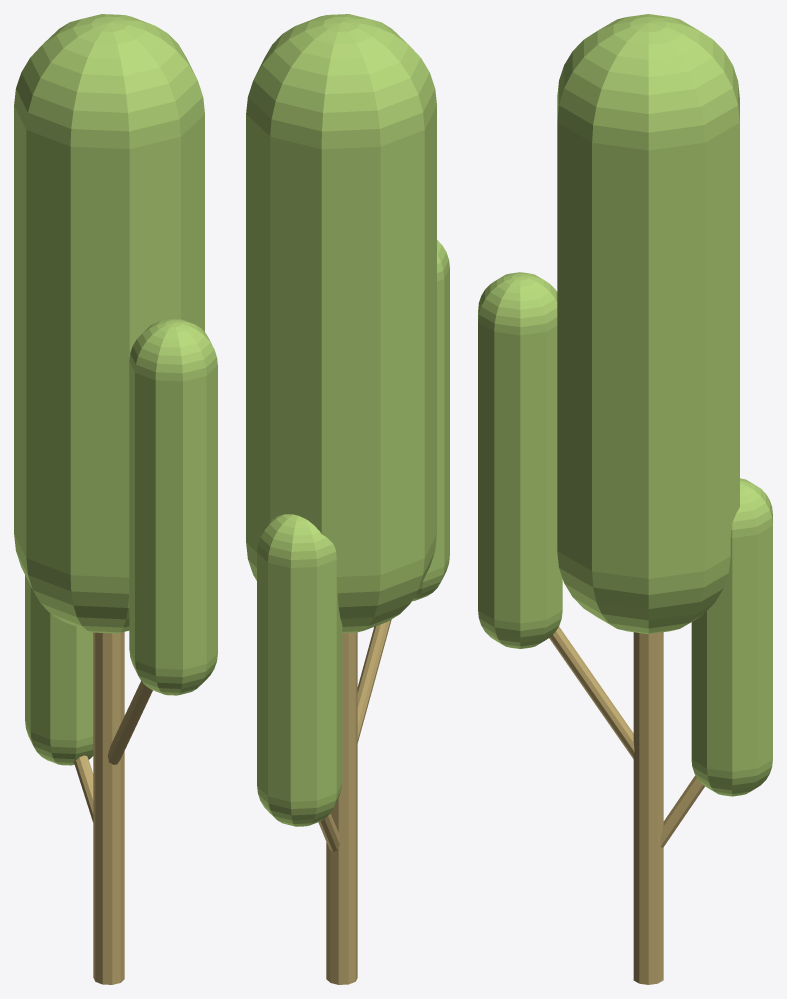
Rendered from props12.fbx.
3 renders of one model, left to right at view 1: azimuth 30°, elevation 25°; view 2: azimuth 150°, elevation 25°; view 3: azimuth 270°, elevation 25°, orthographic.
Parts seen in each view (by area): view 1: Capsule_3; view 2: Capsule_3; view 3: Capsule_3.
Boxes of the visible parts, x1,y1,x2,y2 form: Capsule_3: (14,14,217,984); Capsule_3: (246,14,449,984); Capsule_3: (478,14,772,984).
Size of the model in its own units: 73.01 by 401 by 112.
